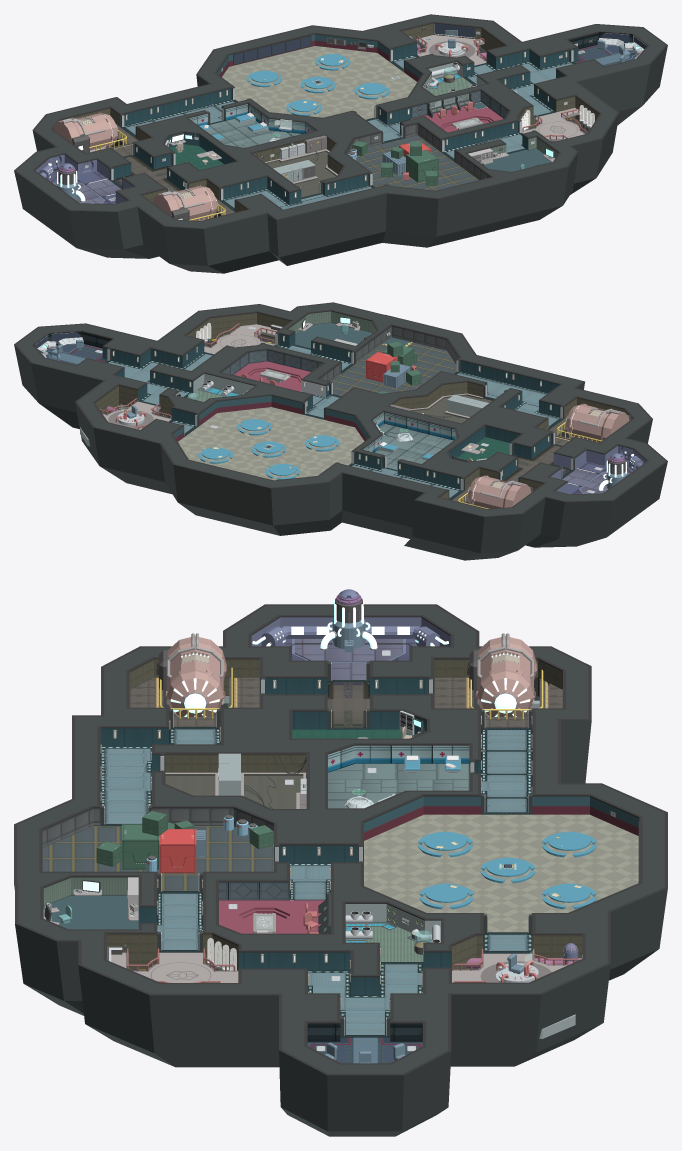
The model's file is spacecraft.glb.
3 views of the same model, one above another, from view 1: azimuth 30°, elevation 25°; view 2: azimuth 150°, elevation 25°; view 3: azimuth 270°, elevation 25° (orthographic). The views are drawn at different scales.
Visible parts, largest first — view 1: 0080_DarkC, Model, Color_M08, paredes_me, pared_escu, _Color_B05, Color_I07, Color_I04, Translucen, Color_C03, piso_textu, pared_cafe (+21 smaller); view 2: 0080_DarkC, Model, Color_M08, paredes_me, pared_escu, _Color_B05, Color_I07, pared_cafe, pared_alma, Color_J01, Color_I04, Color_I06 (+17 smaller); view 3: 0080_DarkC, Model, Color_M08, paredes_me, pared_escu, _Color_B05, piso_tex01, Color_I07, piso_pasil, pared_cafe, motores_pi, Color_I06 (+21 smaller).
Boxes of the visible parts, x1,y1,x2,y2 form: 0080_DarkC: [14, 15, 667, 273]; Model: [59, 32, 647, 197]; Color_M08: [14, 14, 667, 228]; paredes_me: [113, 43, 578, 204]; pared_escu: [53, 23, 599, 212]; _Color_B05: [53, 113, 487, 220]; Color_I07: [246, 54, 389, 115]; Color_I04: [55, 27, 644, 201]; Translucen: [233, 23, 646, 83]; Color_C03: [417, 35, 583, 139]; piso_textu: [210, 63, 572, 206]; pared_cafe: [216, 34, 422, 81]; 0080_DarkC: [14, 303, 667, 560]; Model: [34, 311, 624, 480]; Color_M08: [14, 302, 667, 516]; paredes_me: [102, 332, 560, 489]; pared_escu: [95, 313, 632, 499]; _Color_B05: [468, 404, 629, 508]; Color_I07: [198, 419, 339, 479]; pared_cafe: [173, 395, 369, 441]; pared_alma: [320, 326, 458, 381]; Color_J01: [80, 373, 488, 460]; Color_I04: [37, 325, 626, 493]; Color_I06: [550, 445, 646, 493]; 0080_DarkC: [14, 605, 667, 1136]; Model: [42, 592, 638, 1063]; Color_M08: [14, 604, 667, 1075]; paredes_me: [100, 678, 480, 995]; pared_escu: [107, 659, 582, 970]; _Color_B05: [166, 636, 537, 716]; piso_tex01: [100, 729, 532, 950]; Color_I07: [418, 831, 596, 909]; piso_pasil: [290, 730, 532, 900]; pared_cafe: [364, 796, 639, 840]; motores_pi: [129, 677, 562, 727]; Color_I06: [251, 589, 578, 964].
Size of the model in its own units: 118 by 14.7 by 69.33.
94 materials, 44 textured.
